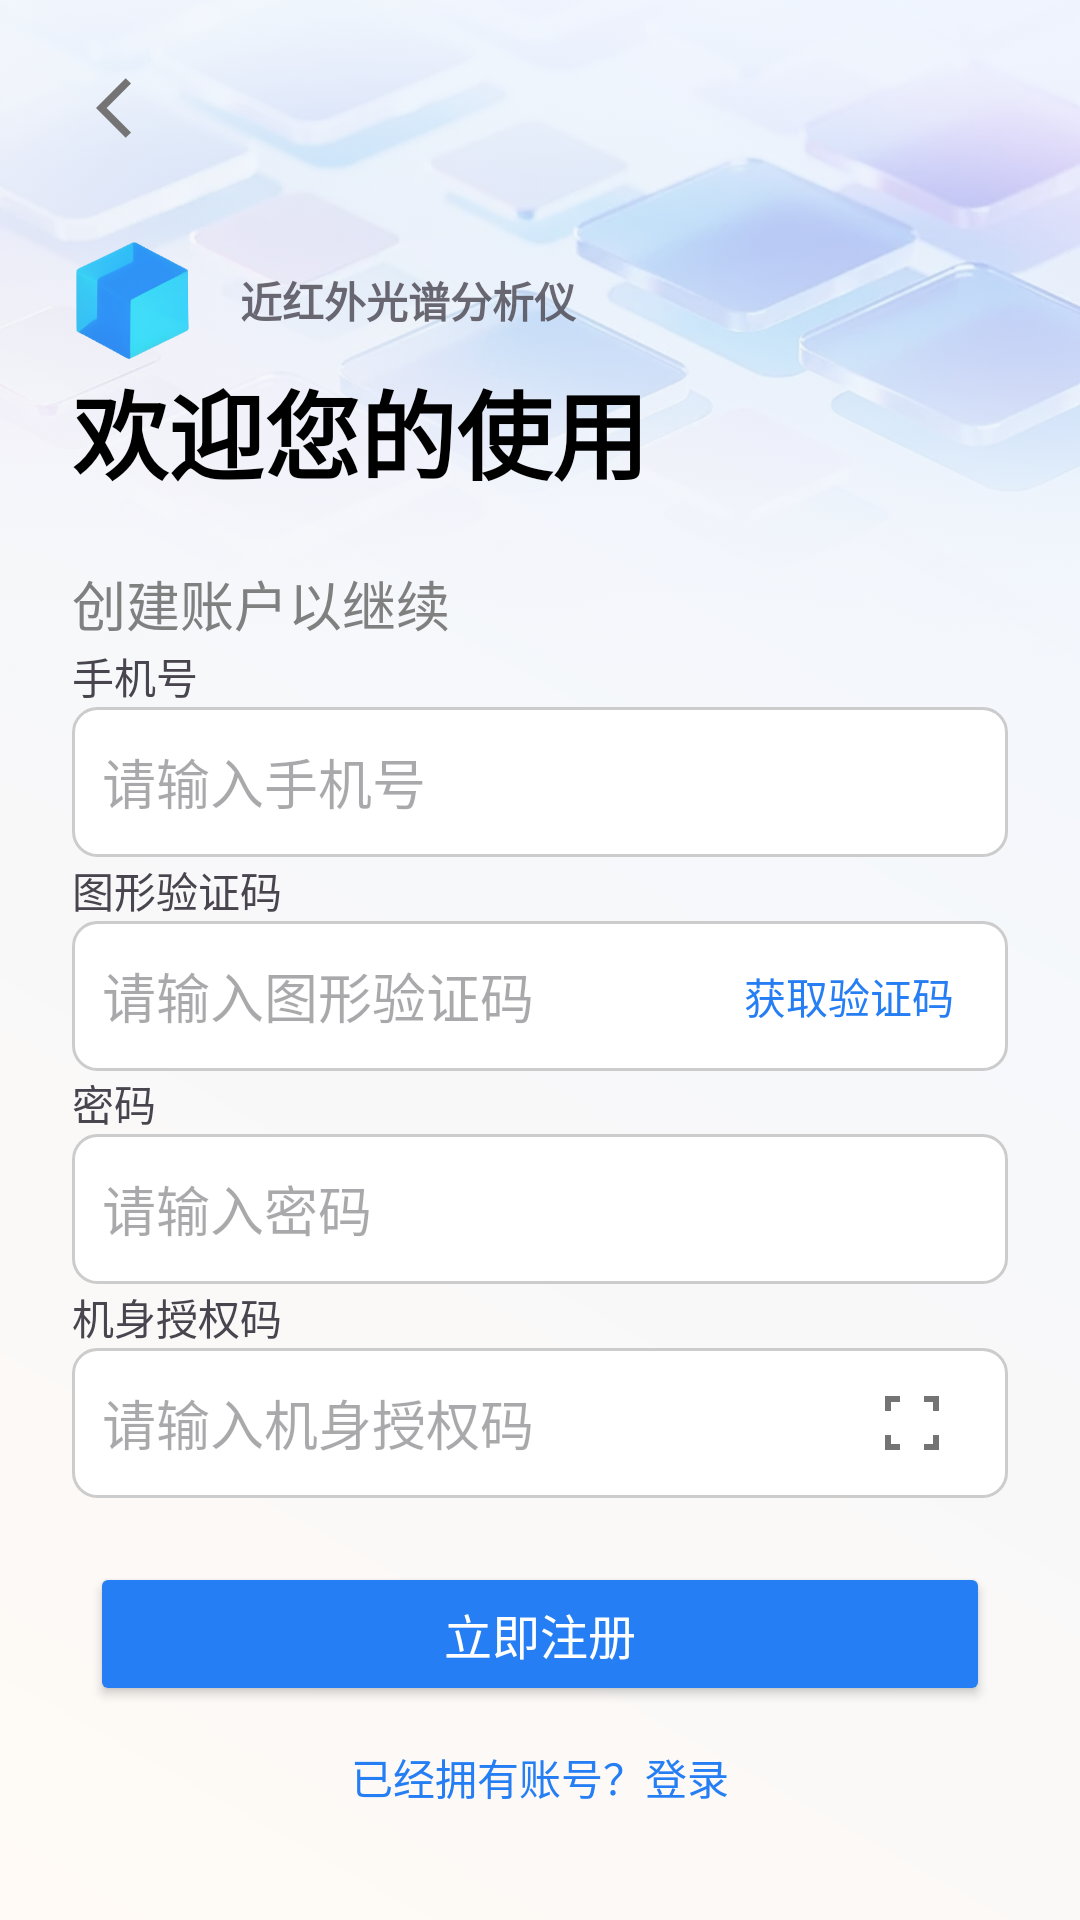

Where icons sit on this 1080×1920 app screen, as [x1,y1,x2,y2]:
arrow back: [96,78,131,138]
